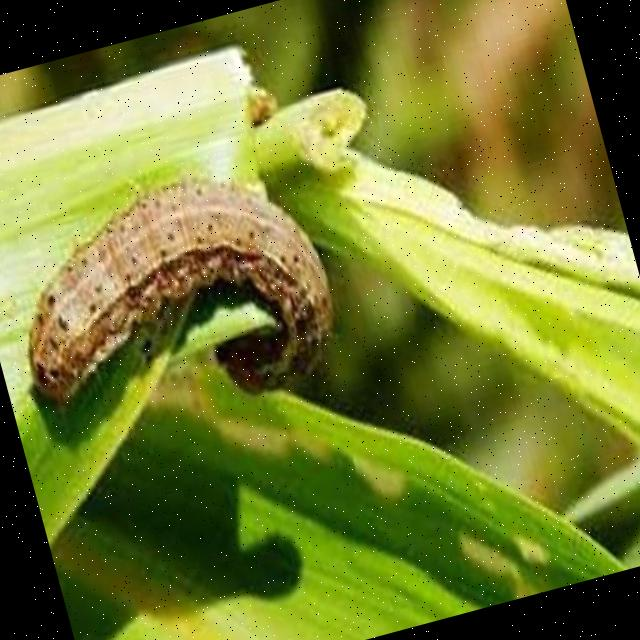worm: (1, 141, 358, 459)
